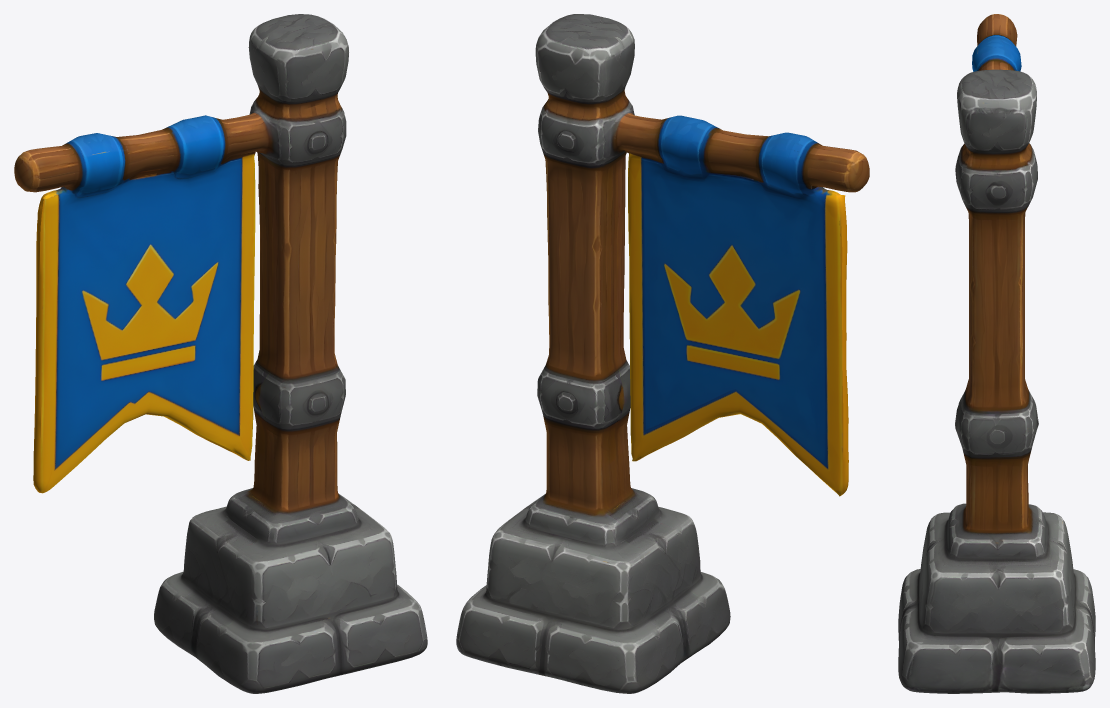
Rendered from RoyalBanner.glb.
The picture shows the model from 3 angles, left to right: view 1: azimuth 30°, elevation 25°; view 2: azimuth 150°, elevation 25°; view 3: azimuth 270°, elevation 25°; orthographic projection. The views are drawn at different scales.
Visible parts, largest first — view 1: Mesh0; view 2: Mesh0; view 3: Mesh0.
Boxes of the visible parts, <box> form: Mesh0: <box>14,14,427,693</box>; Mesh0: <box>456,14,869,693</box>; Mesh0: <box>898,14,1095,693</box>.
Bounding box in the file's own units: 1.22 × 1.94 × 0.6006.
Materials: 1 (1 with a texture image).
